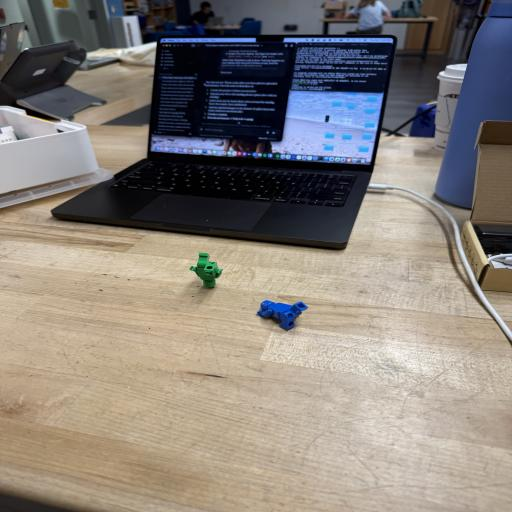blue-minifig: (257, 300, 308, 329)
green-minifig: (190, 253, 222, 288)
